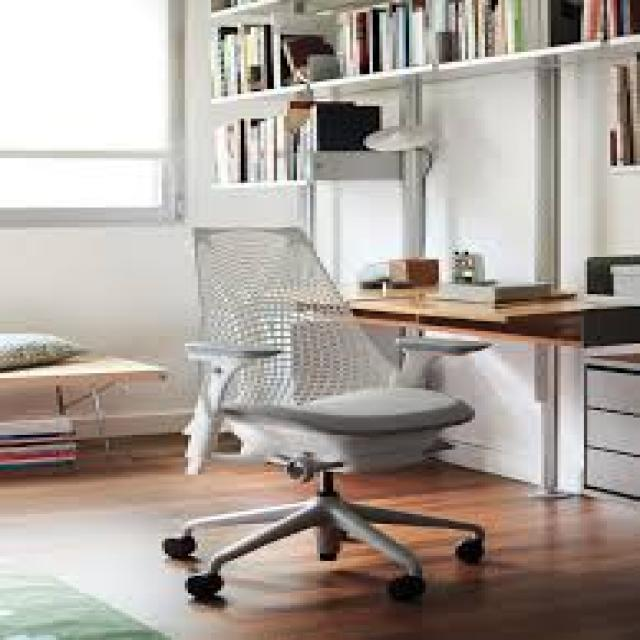chair: (92, 212, 526, 640)
